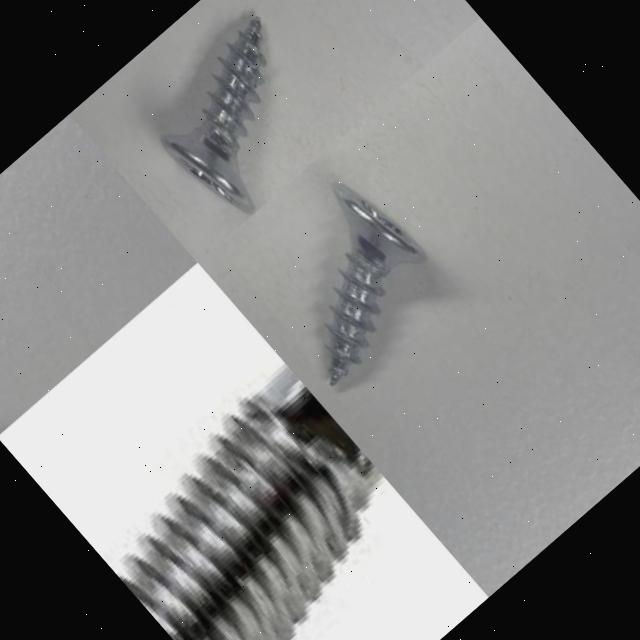Screw: (114, 362, 389, 640), (160, 15, 265, 213), (327, 181, 426, 385)
